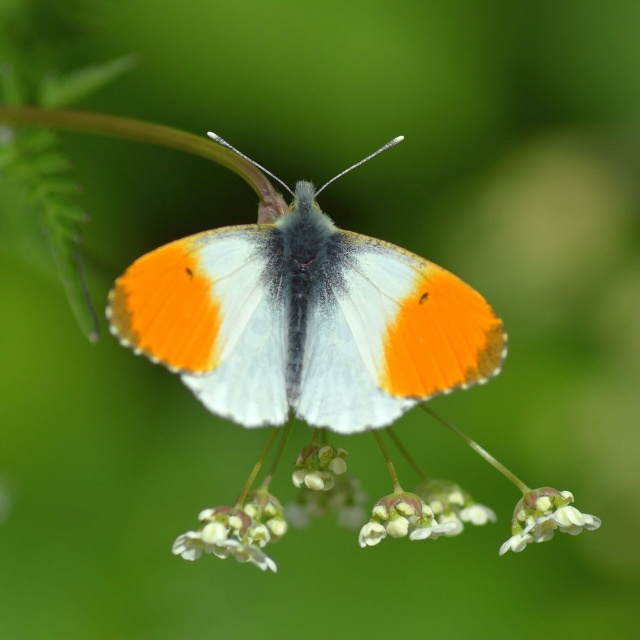Butterfly: (103, 131, 509, 436)
